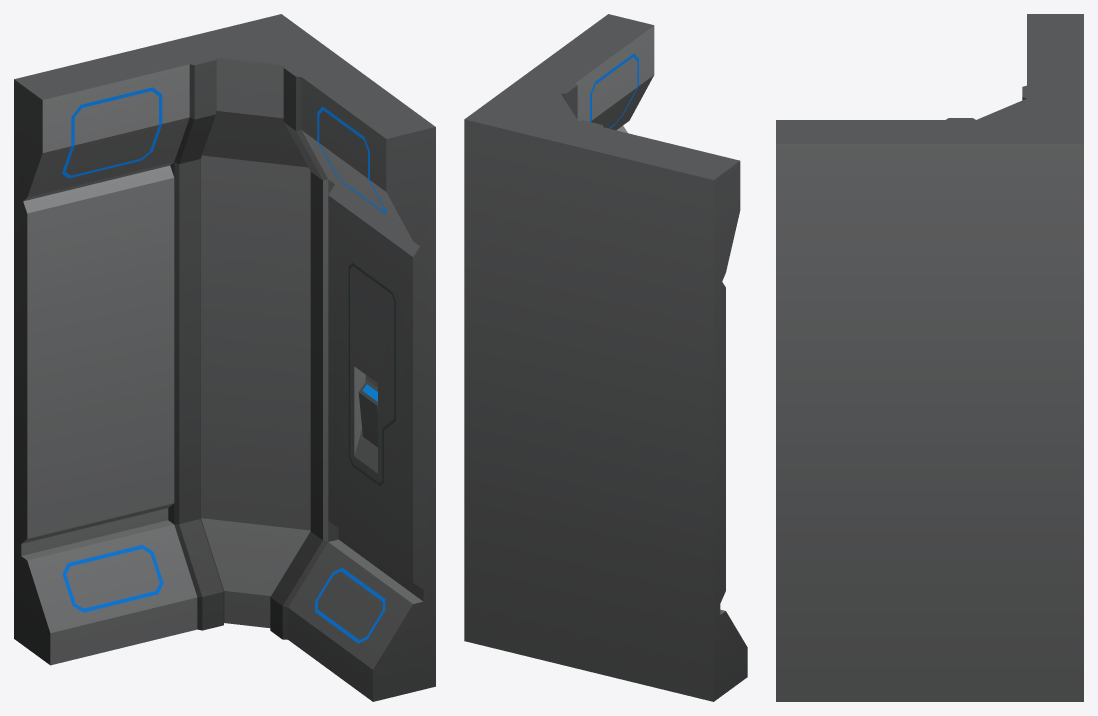
Rendered from wall_inner_corner_damaged.glb.
3 views of the same model, side by side, from view 1: azimuth 30°, elevation 25°; view 2: azimuth 150°, elevation 25°; view 3: azimuth 270°, elevation 25° (orthographic). The views are drawn at different scales.
Visible parts, largest first — view 1: Wall_type_B_003; view 2: Wall_type_B_003; view 3: Wall_type_B_003.
Part boxes in pixels (left/top/right/bottom): Wall_type_B_003: left=14, top=14, right=435, bottom=701; Wall_type_B_003: left=464, top=14, right=747, bottom=701; Wall_type_B_003: left=776, top=14, right=1083, bottom=701.
Size of the model in its own units: 2 by 4 by 2.
2 materials, 2 textured.
